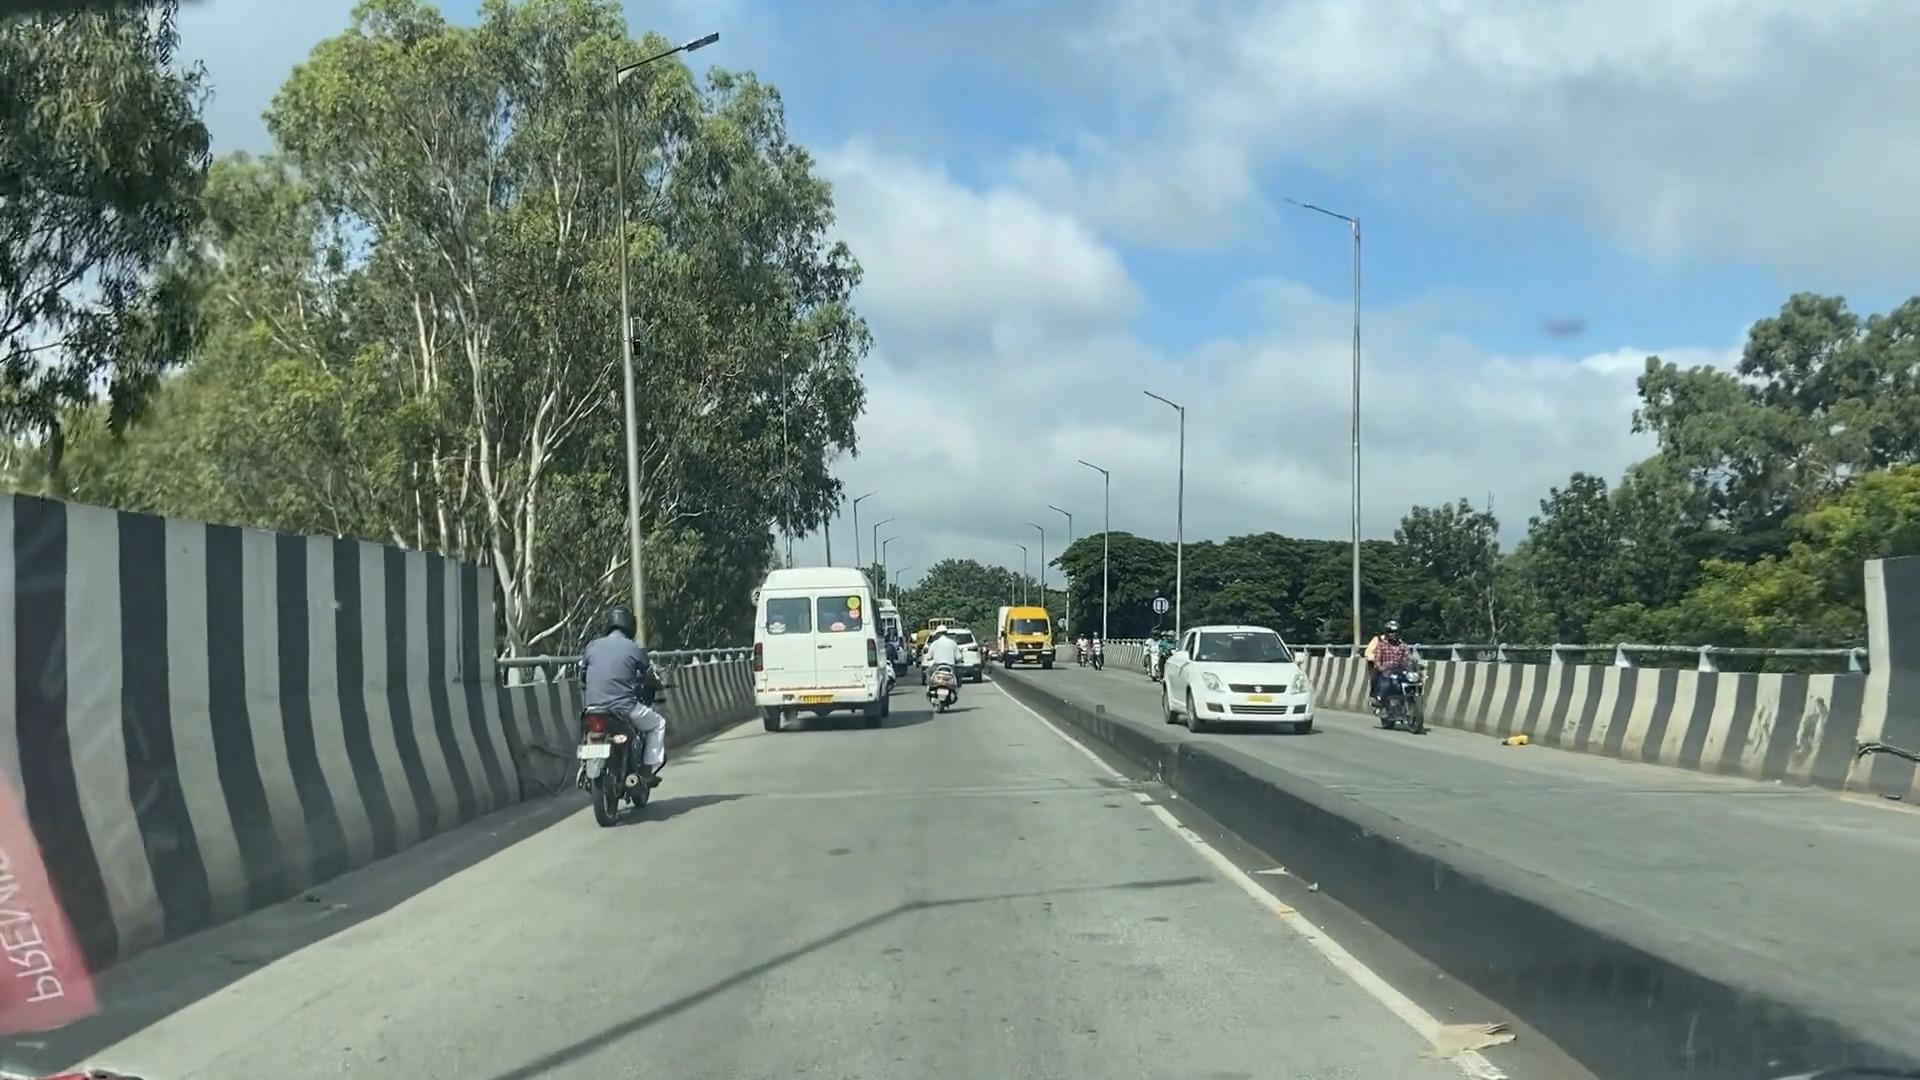HMV: (742, 564, 880, 731)
LMV: (563, 609, 644, 837), (926, 621, 961, 713)
